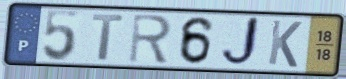5: (41, 8, 84, 64)
6: (178, 15, 216, 67)
J: (218, 15, 263, 70)
K: (266, 18, 304, 70)
R: (127, 12, 174, 65)
T: (91, 14, 126, 63)
